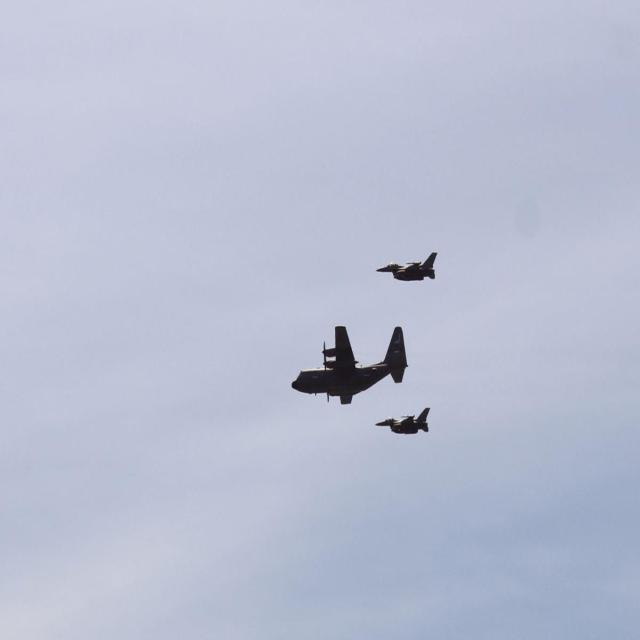MIL_Plane: (288, 325, 406, 405), (375, 252, 438, 281), (374, 406, 431, 434)
